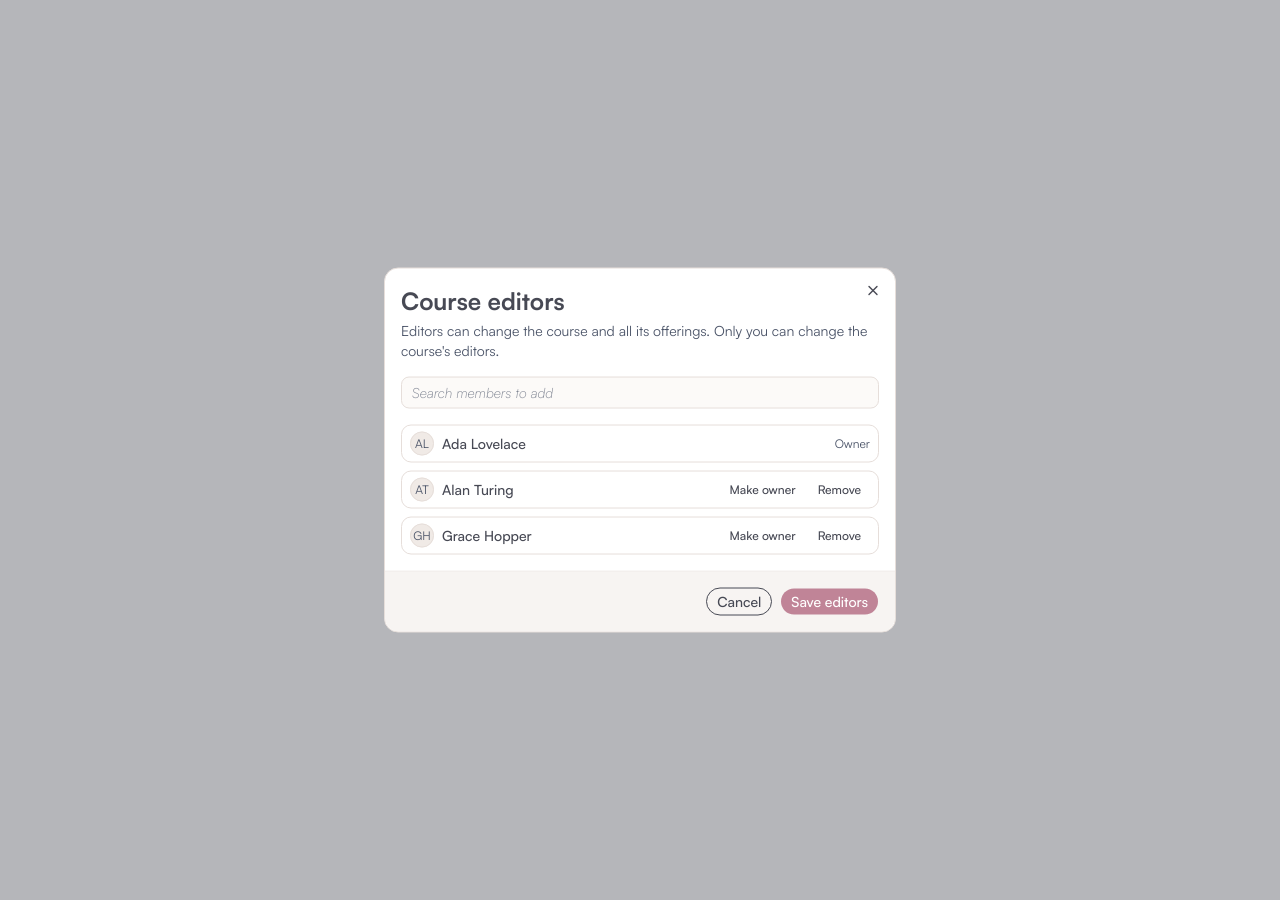
Scenario: ManageEditorsDialog › backs out of a transfer
This screenshot has width=1280, height=900.
Click the button with aria-label "Make Alan Turing the owner".
click(763, 490)  # box [720, 478, 805, 502]
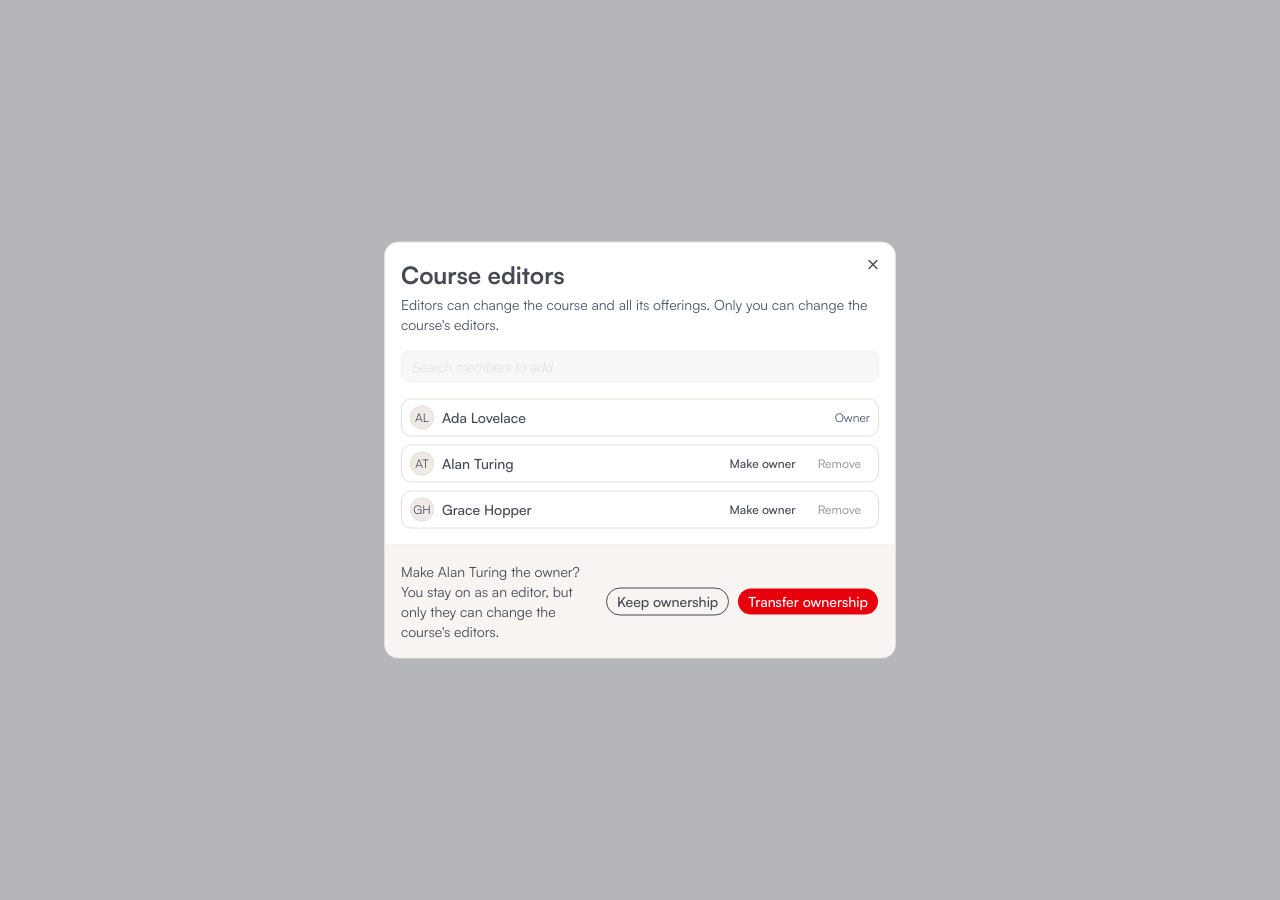
Click the button "Keep ownership".
click(668, 602)  # box [606, 588, 729, 616]
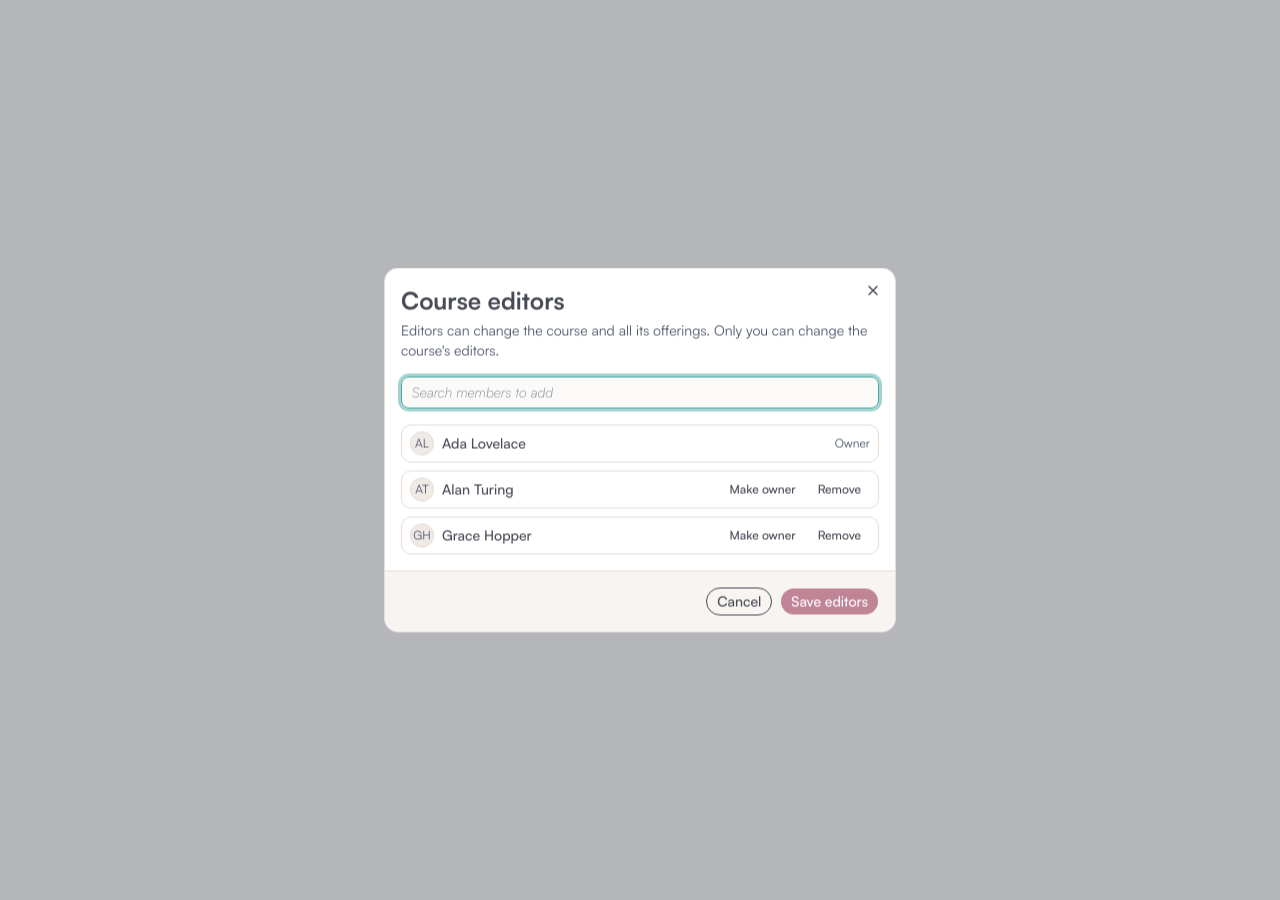
Expected: the button "Save editors" is shown, [780, 588, 879, 616]
